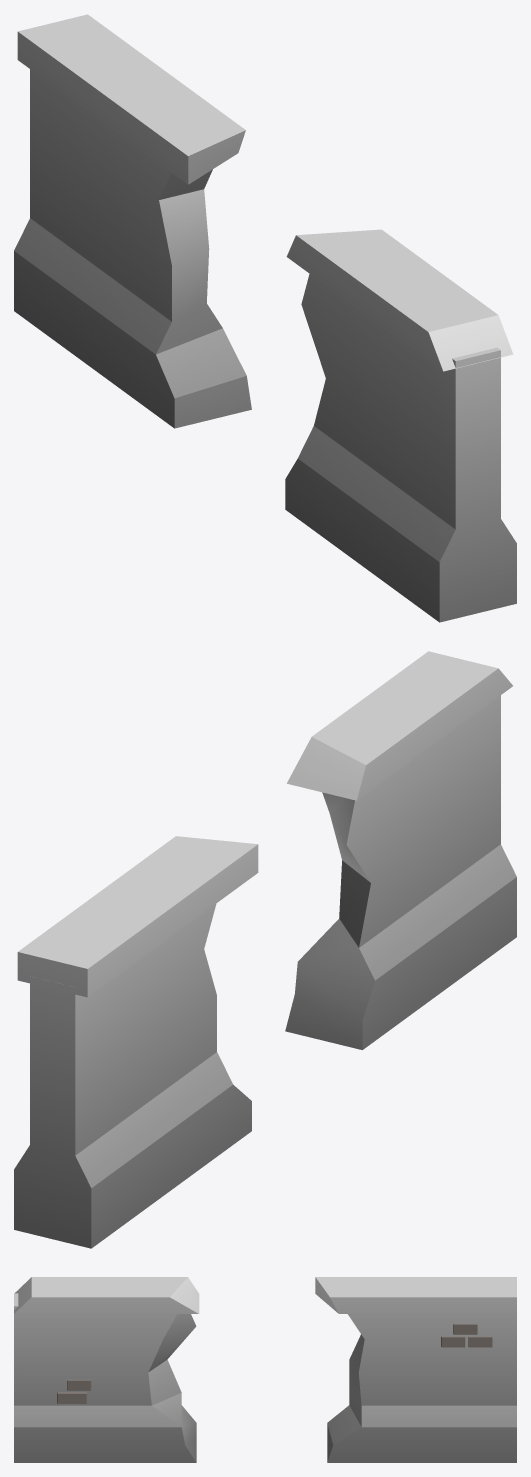
File: [OBJ]Muro_Ruina_1.fbx
3 renders of one model, top to bottom at view 1: azimuth 30°, elevation 25°; view 2: azimuth 150°, elevation 25°; view 3: azimuth 270°, elevation 25°, orthographic. The views are drawn at different scales.
Visible parts, largest first — view 1: [OBJ]Muro_Ruina.001; view 2: [OBJ]Muro_Ruina.001; view 3: [OBJ]Muro_Ruina.001.
Part boxes in pixels (x1,y1,x2,y2): [OBJ]Muro_Ruina.001: (14, 14, 516, 622); [OBJ]Muro_Ruina.001: (14, 651, 516, 1248); [OBJ]Muro_Ruina.001: (14, 1277, 516, 1462).
Bounding box in the file's own units: 42.01 × 145 × 400.
